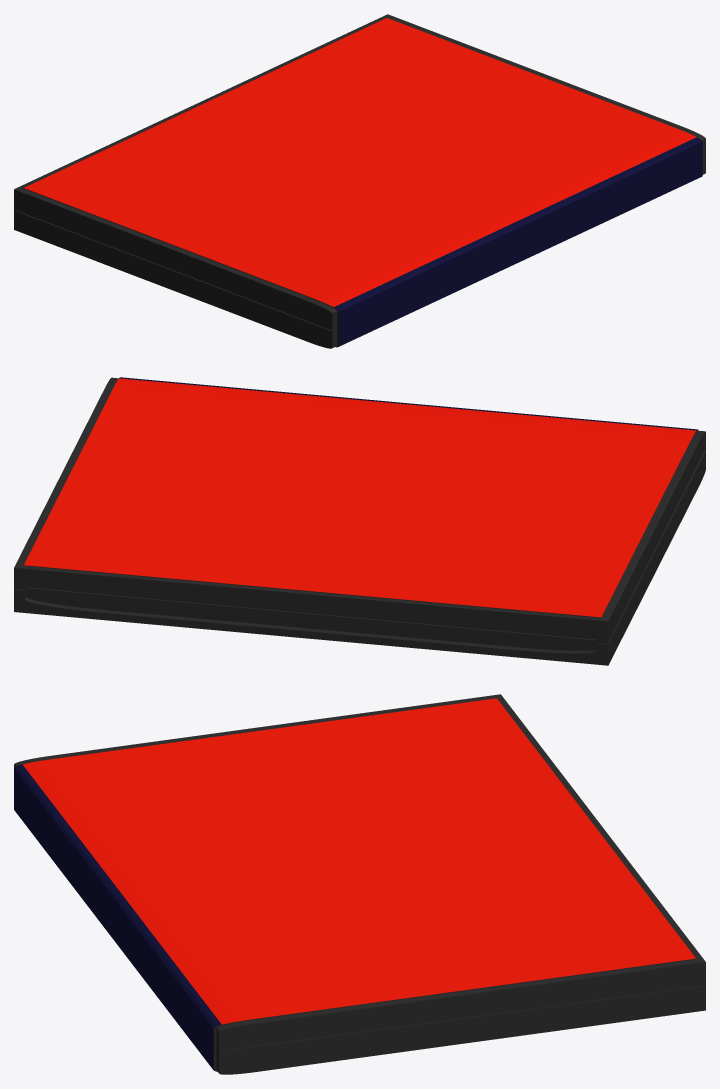
Rendered from GameCase3.fbx.
The picture shows the model from 3 angles, top to bottom: view 1: azimuth 30°, elevation 25°; view 2: azimuth 150°, elevation 25°; view 3: azimuth 270°, elevation 25°; orthographic projection. The views are drawn at different scales.
Visible parts, largest first — view 1: Games.003; view 2: Games.003; view 3: Games.003.
Part boxes in pixels (x1,y1,x2,y2): Games.003: (14, 14, 705, 348); Games.003: (14, 377, 705, 665); Games.003: (14, 694, 705, 1074).
Bounding box in the file's own units: 206 × 14.26 × 180.
